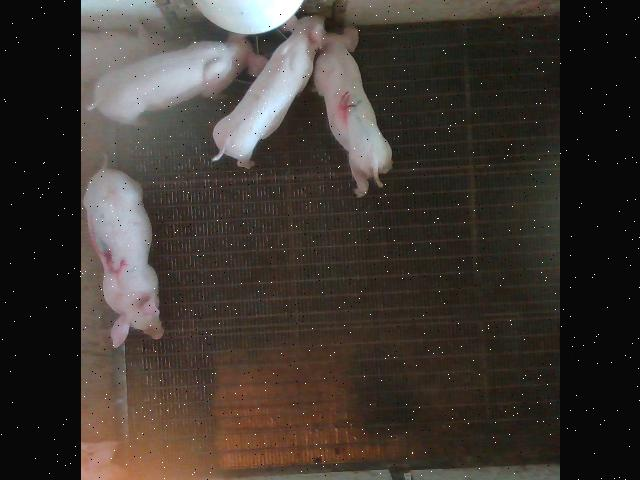pig-3: (83, 164, 161, 347)
pig-4: (313, 28, 391, 198)
